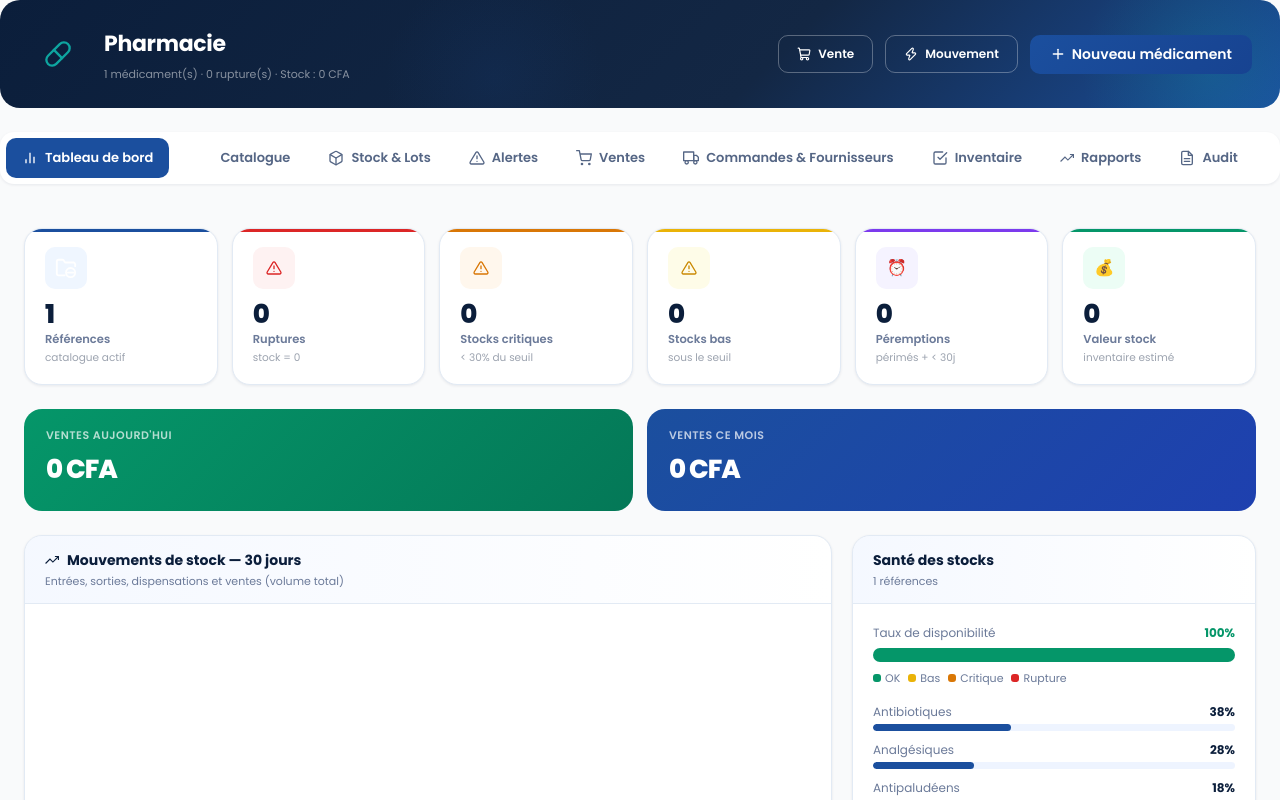
Test: POST5-012 — base sans mouvement de consommation ce mois-ci : état vide honnête, jamais un graphique fabriqué
This screenshot has width=1280, height=800.
Check: the text "Tableau de bord" is shown, box [45,148,153,168]
Click the button "Rapports": (1101, 158) [1044,138,1158,178]
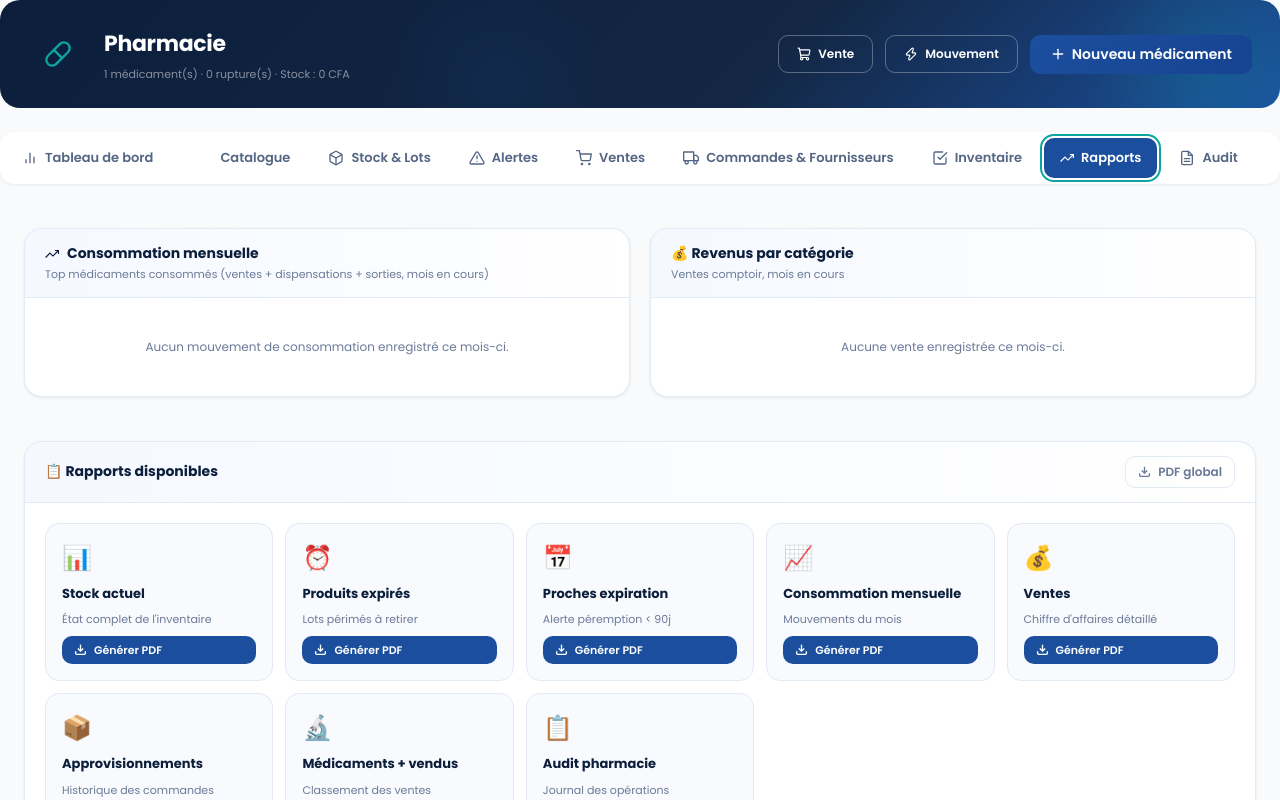
Check: the heading "📋 Rapports disponibles" is shown, box [45,461,218,482]
Check: the text "Aucun mouvement de consommation enregistré ce mois-ci." is shown, box [146,338,508,354]
Check: the text "Aucune vente enregistrée ce mois-ci." is shown, box [841,338,1065,354]
